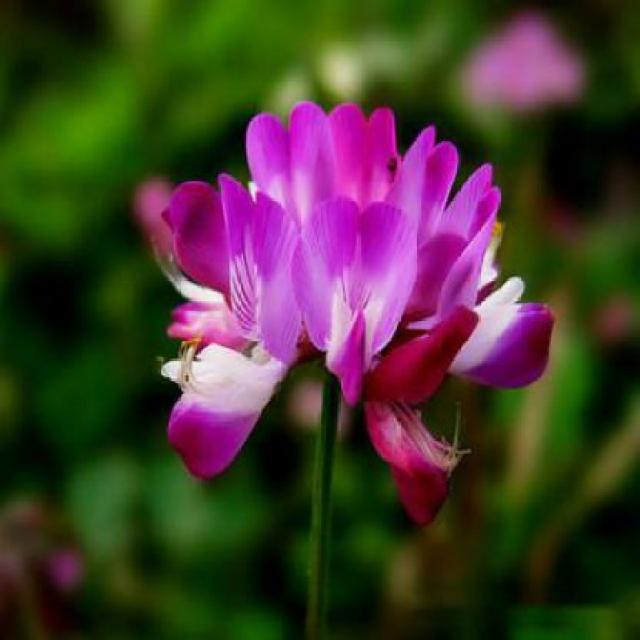flower: (125, 86, 543, 492)
